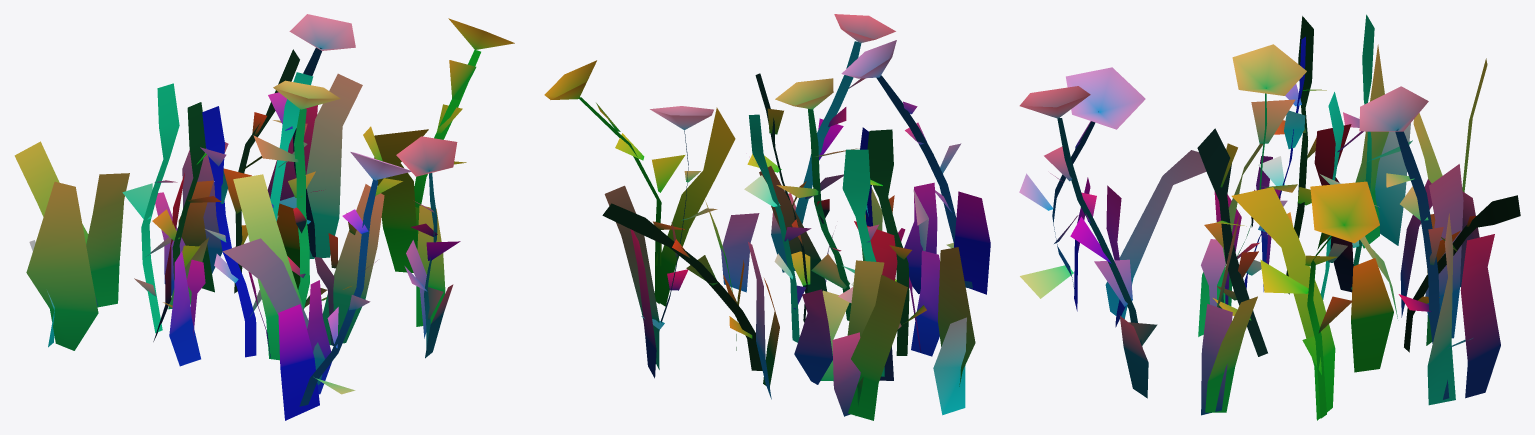
The model's file is Matted_Pratia_uegjcflia_Mid_uegjcflia_VarF_LOD1.fbx.
The picture shows the model from 3 angles, left to right: view 1: azimuth 30°, elevation 25°; view 2: azimuth 150°, elevation 25°; view 3: azimuth 270°, elevation 25°; orthographic projection. The views are drawn at different scales.
Parts seen in each view (by area): view 1: _cfc6_VarF_LOD2; view 2: _cfc6_VarF_LOD2; view 3: _cfc6_VarF_LOD2.
Part boxes in pixels (x1,y1,x2,y2): _cfc6_VarF_LOD2: [14, 14, 514, 420]; _cfc6_VarF_LOD2: [544, 14, 990, 420]; _cfc6_VarF_LOD2: [1019, 14, 1520, 420].
Bounding box in the file's own units: 16.43 × 8.82 × 13.24.
